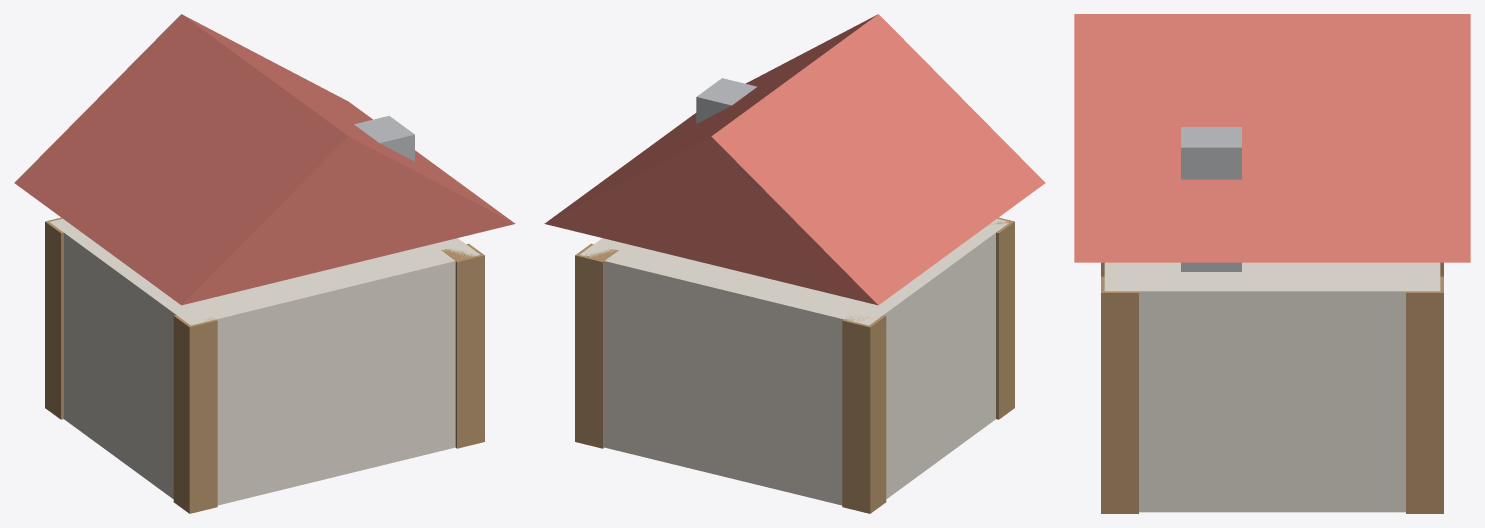
File: house_01.glb
3 views of the same model, side by side, from view 1: azimuth 30°, elevation 25°; view 2: azimuth 150°, elevation 25°; view 3: azimuth 270°, elevation 25° (orthographic). The views are drawn at different scales.
Visible parts, largest first — view 1: house_01_root; view 2: house_01_root; view 3: house_01_root.
Part boxes in pixels (x1,y1,x2,y2): house_01_root: [14, 14, 515, 513]; house_01_root: [544, 14, 1045, 513]; house_01_root: [1074, 14, 1470, 513].
Size of the model in its own units: 30 by 30 by 26.
